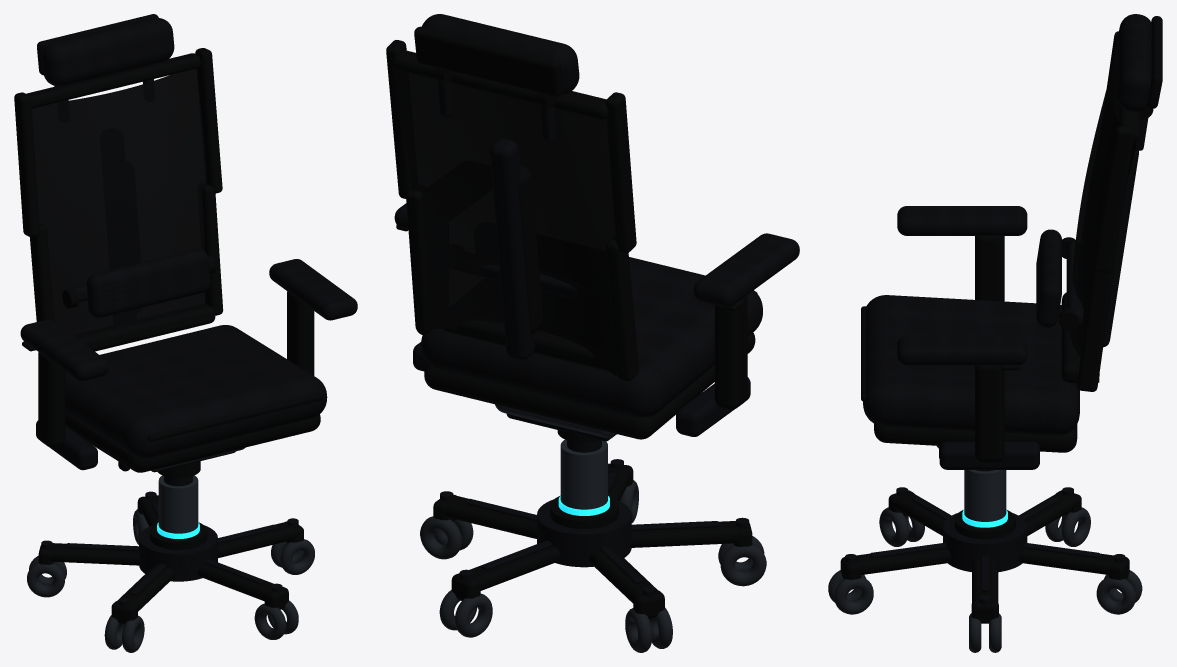
File: chairb.glb
3 views of the same model, side by side, from view 1: azimuth 30°, elevation 25°; view 2: azimuth 150°, elevation 25°; view 3: azimuth 270°, elevation 25° (orthographic). The views are drawn at different scales.
Parts seen in each view (by area): view 1: Backrest_Mesh, Seat_Cushion, Headrest_Cushion, LumbarSupport_Pad, Seat_Undershell, Armrest_Right_Pad, Armrest_Left_Pad, BackFrame_Top, BackFrame_Bottom, BackFrame_Left_Upper, Armrest_Left_Column, Base_CenterHub (+18 smaller); view 2: Backrest_Mesh, Seat_Cushion, Seat_Undershell, BackSpine_Main, Headrest_BackShell, Armrest_Left_Pad, Armrest_Left_Column, Base_CenterHub, Headrest_Cushion, BackFrame_Left_Upper, BackFrame_Left_Lower, GasLift_LowerCover (+22 smaller); view 3: Seat_Cushion, Backrest_Mesh, Armrest_Right_Pad, Armrest_Left_Pad, Headrest_Cushion, BackFrame_Right_Upper, Armrest_Right_Column, Base_CenterHub, BackFrame_Right_Lower, Seat_Undershell, LumbarSupport_Pad, Armrest_Right_LowerBracket (+17 smaller).
Part boxes in pixels (x1=…): Backrest_Mesh: x1=31, y1=68, x2=206, y2=335; Seat_Cushion: x1=65, y1=325, x2=327, y2=458; Headrest_Cushion: x1=42, y1=17, x2=174, y2=86; LumbarSupport_Pad: x1=86, y1=249, x2=210, y2=317; Seat_Undershell: x1=65, y1=414, x2=320, y2=472; Armrest_Right_Pad: x1=269, y1=259, x2=357, y2=320; Armrest_Left_Pad: x1=20, y1=319, x2=108, y2=380; BackFrame_Top: x1=26, y1=53, x2=200, y2=108; BackFrame_Bottom: x1=73, y1=303, x2=215, y2=351; BackFrame_Left_Upper: x1=14, y1=92, x2=39, y2=237; Armrest_Left_Column: x1=38, y1=352, x2=65, y2=447; Base_CenterHub: x1=139, y1=525, x2=217, y2=581; Backrest_Mesh: x1=392, y1=67, x2=618, y2=375; Seat_Cushion: x1=421, y1=257, x2=762, y2=417; Seat_Undershell: x1=424, y1=332, x2=755, y2=439; BackSpine_Main: x1=490, y1=138, x2=534, y2=360; Headrest_BackShell: x1=414, y1=26, x2=563, y2=96; Armrest_Left_Pad: x1=693, y1=233, x2=799, y2=307; Armrest_Left_Column: x1=714, y1=295, x2=747, y2=409; Base_CenterHub: x1=537, y1=499, x2=631, y2=567; Headrest_Cushion: x1=422, y1=14, x2=579, y2=95; BackFrame_Left_Upper: x1=605, y1=92, x2=636, y2=253; BackFrame_Left_Lower: x1=606, y1=238, x2=639, y2=381; GasLift_LowerCover: x1=560, y1=439, x2=607, y2=516; Seat_Cushion: x1=863, y1=295, x2=1079, y2=435; Backrest_Mesh: x1=1069, y1=67, x2=1136, y2=382; Armrest_Right_Pad: x1=897, y1=335, x2=1027, y2=365; Armrest_Left_Pad: x1=897, y1=206, x2=1027, y2=235; Headrest_Cushion: x1=1116, y1=14, x2=1151, y2=112; BackFrame_Right_Upper: x1=1093, y1=126, x2=1134, y2=273; Armrest_Right_Column: x1=975, y1=365, x2=1004, y2=462; Base_CenterHub: x1=943, y1=513, x2=1027, y2=572; BackFrame_Right_Lower: x1=1077, y1=261, x2=1114, y2=391; Seat_Undershell: x1=874, y1=423, x2=1077, y2=452; LumbarSupport_Pad: x1=1036, y1=229, x2=1061, y2=327; Armrest_Right_LowerBracket: x1=939, y1=441, x2=1039, y2=469.
Bounding box in the file's own units: 0.762 × 1.33 × 0.732.
Materials: 7 (4 with a texture image).
